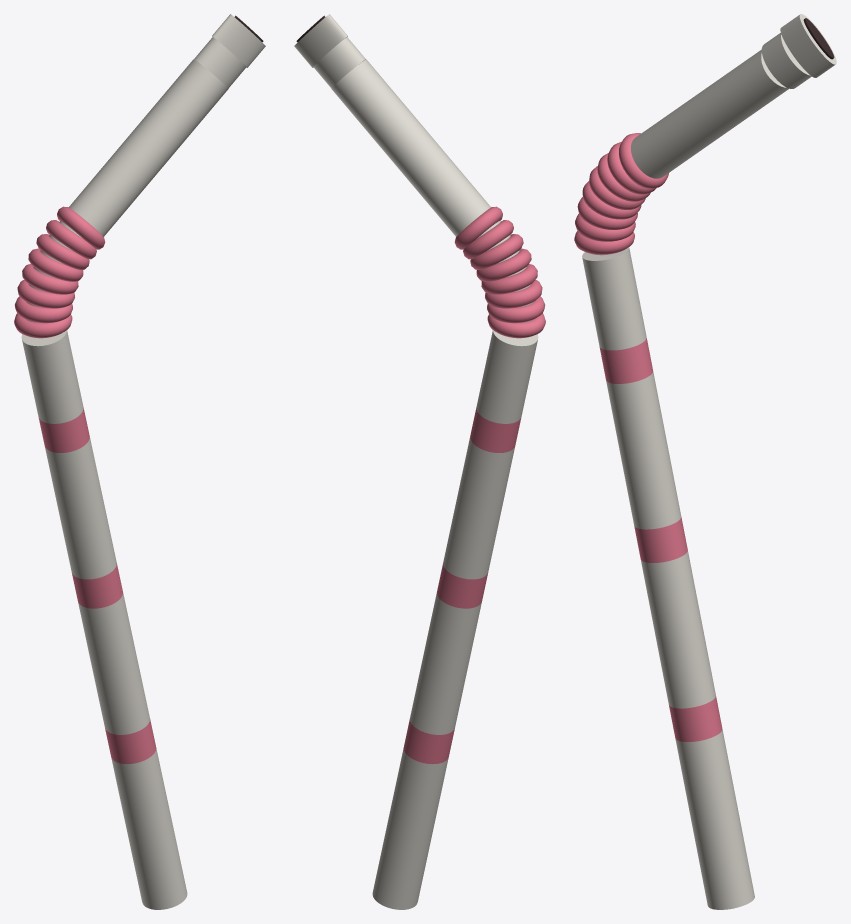
The model's file is straw.glb.
3 renders of one model, left to right at view 1: azimuth 30°, elevation 25°; view 2: azimuth 150°, elevation 25°; view 3: azimuth 330°, elevation 25°, orthographic. The views are drawn at different scales.
Visible parts, largest first — view 1: top, body_0, body_4, body_2, body_6, body_3, body_1, body_5, bite_1, bite_0, rib_3, rib_4 (+6 smaller); view 2: top, body_0, body_4, body_2, body_6, body_3, body_1, body_5, bite_1, bite_0, rib_3, rib_4 (+6 smaller); view 3: body_0, top, body_4, body_2, body_6, bite_1, body_1, body_5, body_3, bite_0, rib_7, rib_0 (+6 smaller).
Part boxes in pixels (box(x1,y1,x2,y2)): top: box(69, 59, 228, 236); body_0: box(111, 748, 187, 909); body_4: box(45, 436, 116, 579); body_2: box(78, 592, 149, 734); body_6: box(21, 330, 83, 423); body_3: box(72, 563, 122, 608); body_1: box(105, 719, 156, 764); body_5: box(38, 407, 89, 452); bite_1: box(212, 14, 265, 67); bite_0: box(194, 37, 246, 88); rib_3: box(22, 264, 78, 294); rib_4: box(28, 248, 83, 281); top: box(331, 59, 490, 236); body_0: box(372, 748, 448, 909); body_4: box(443, 436, 514, 579); body_2: box(410, 592, 481, 734); body_6: box(476, 330, 538, 423); body_3: box(437, 563, 487, 608); body_1: box(403, 719, 454, 764); body_5: box(470, 407, 521, 452); bite_1: box(294, 14, 347, 67); bite_0: box(313, 37, 365, 88); rib_3: box(481, 264, 537, 294); rib_4: box(476, 248, 531, 281); body_0: box(675, 729, 754, 909); top: box(631, 50, 788, 178); body_4: box(606, 371, 681, 529); body_2: box(640, 550, 715, 708); body_6: box(582, 247, 646, 350); bite_1: box(780, 14, 836, 77); body_1: box(669, 696, 722, 741); body_5: box(599, 338, 652, 383); body_3: box(634, 517, 687, 562); bite_0: box(761, 33, 811, 88); rib_7: box(619, 133, 668, 188); rib_0: box(574, 231, 634, 254).
Size of the model in its own units: 0.495 by 1.67 by 0.1016.
